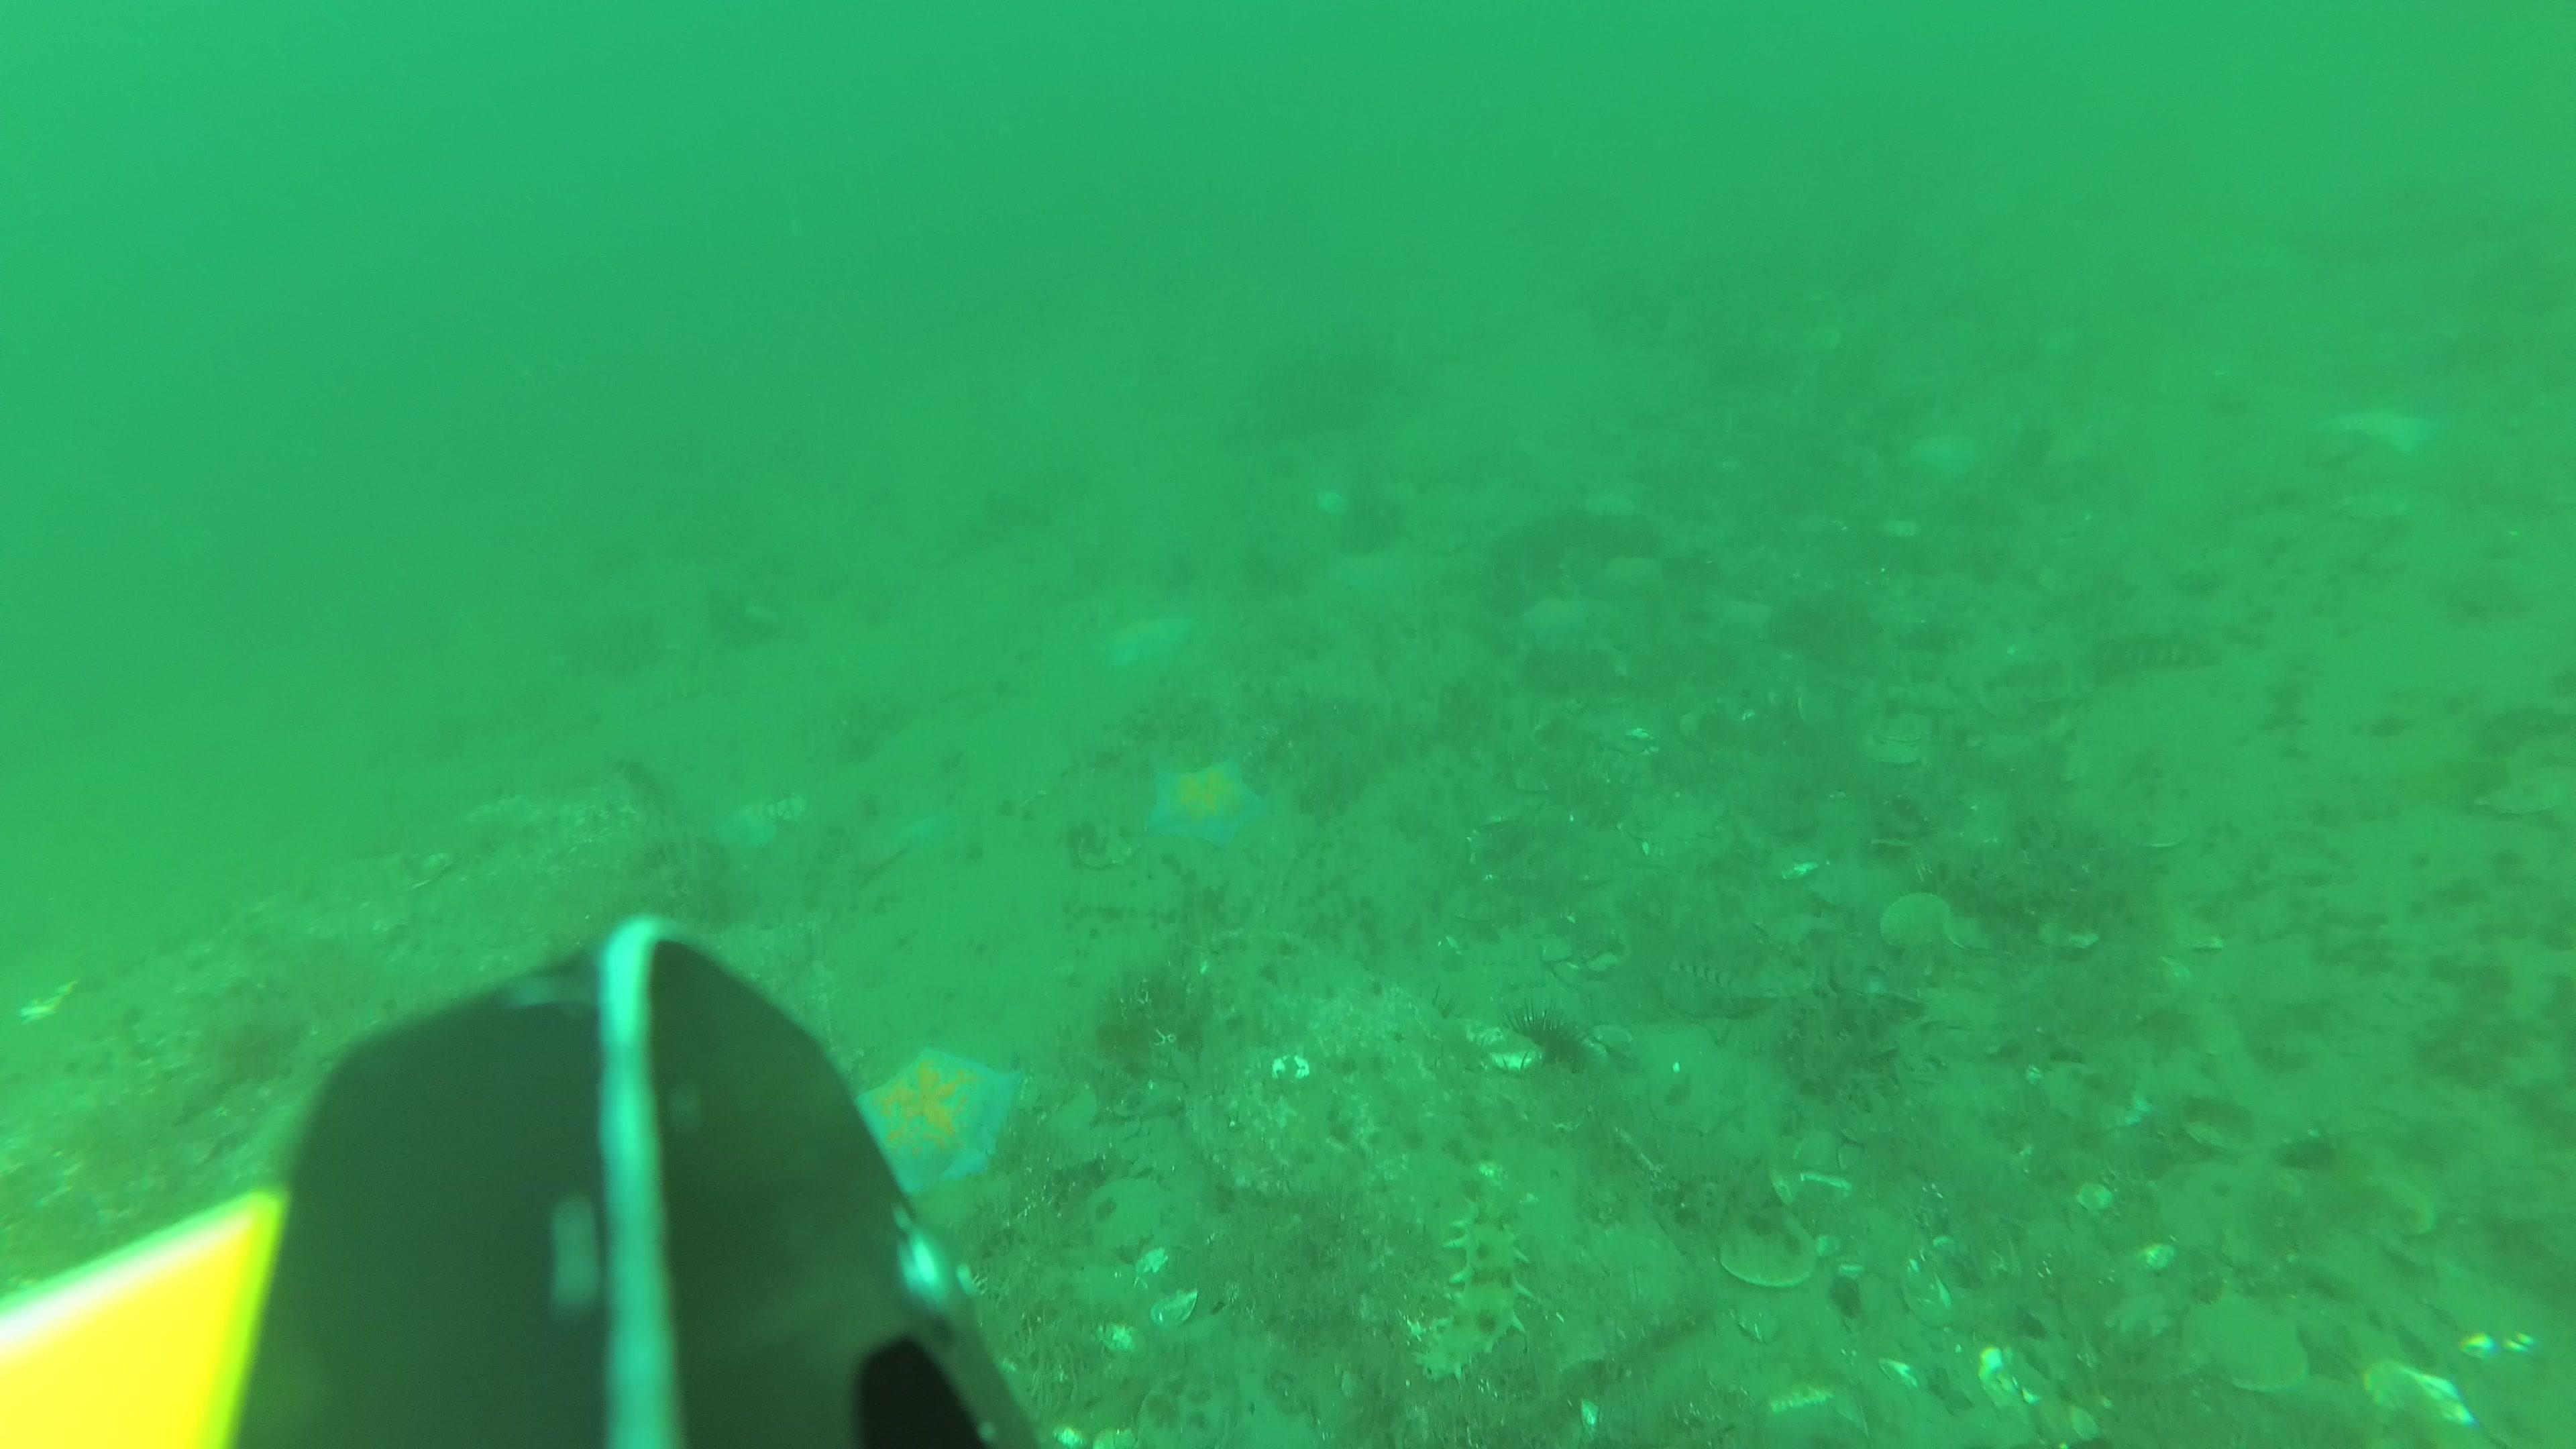echinus: (1502, 993, 1598, 1074)
holothurian: (1415, 1196, 1537, 1391), (2075, 621, 2233, 688)
scallop: (2176, 1292, 2321, 1399), (1706, 1200, 1824, 1297), (2028, 1051, 2157, 1132), (1716, 1207, 1822, 1292), (2341, 1166, 2443, 1242), (1642, 1069, 1737, 1136), (2178, 1092, 2263, 1161), (1879, 888, 1957, 952), (2472, 773, 2567, 821), (1849, 727, 1930, 773), (2118, 805, 2192, 855), (1076, 824, 1134, 872), (1872, 706, 1937, 747), (1944, 915, 1996, 955)
starfish: (840, 1042, 1033, 1207), (1138, 752, 1281, 855), (2323, 395, 2456, 464), (858, 801, 952, 883), (1090, 614, 1200, 683), (717, 794, 816, 856), (1909, 428, 1990, 488), (1518, 591, 1594, 655)
